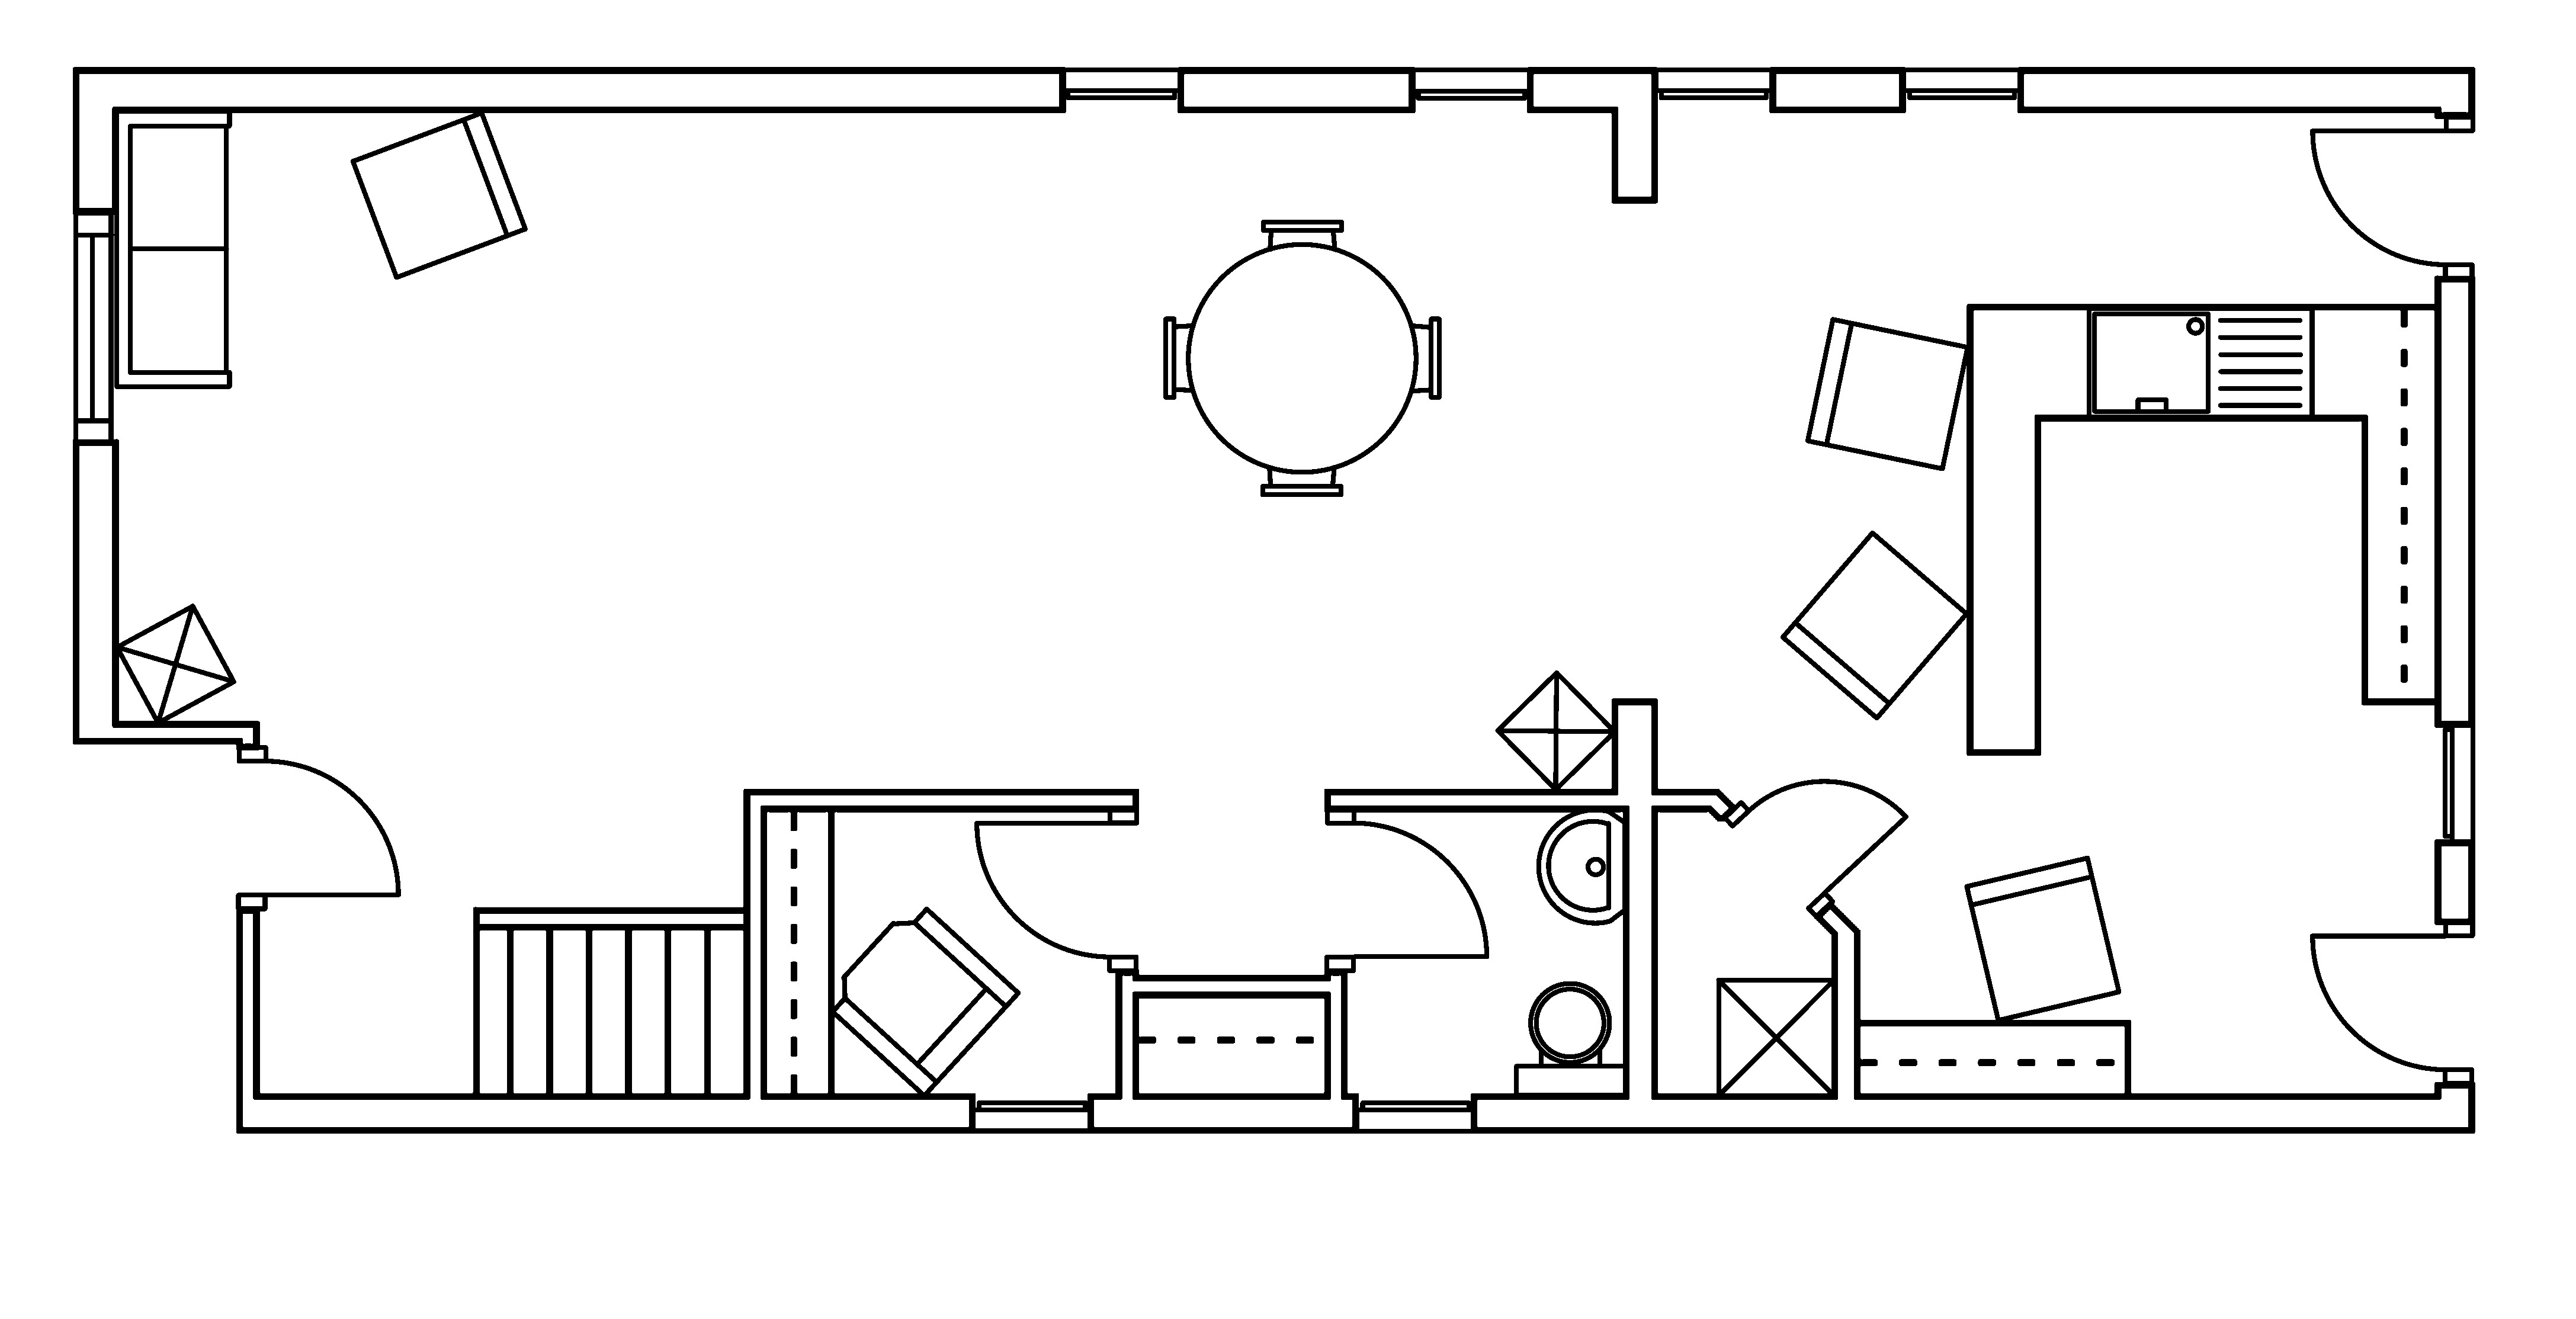armchair: (829, 905, 1021, 1099)
coffee_table: (1493, 670, 1618, 792), (113, 602, 237, 725), (1715, 976, 1836, 1099)
large_sink: (1513, 981, 1628, 1097)
large_sofa: (113, 108, 232, 389)
round_table: (1162, 219, 1441, 496)
sink: (2085, 305, 2314, 421)
small_sink: (1535, 808, 1628, 925)
small_sofa: (1779, 530, 1969, 720), (350, 109, 528, 281), (1962, 855, 2120, 1023), (1804, 316, 1971, 471)
